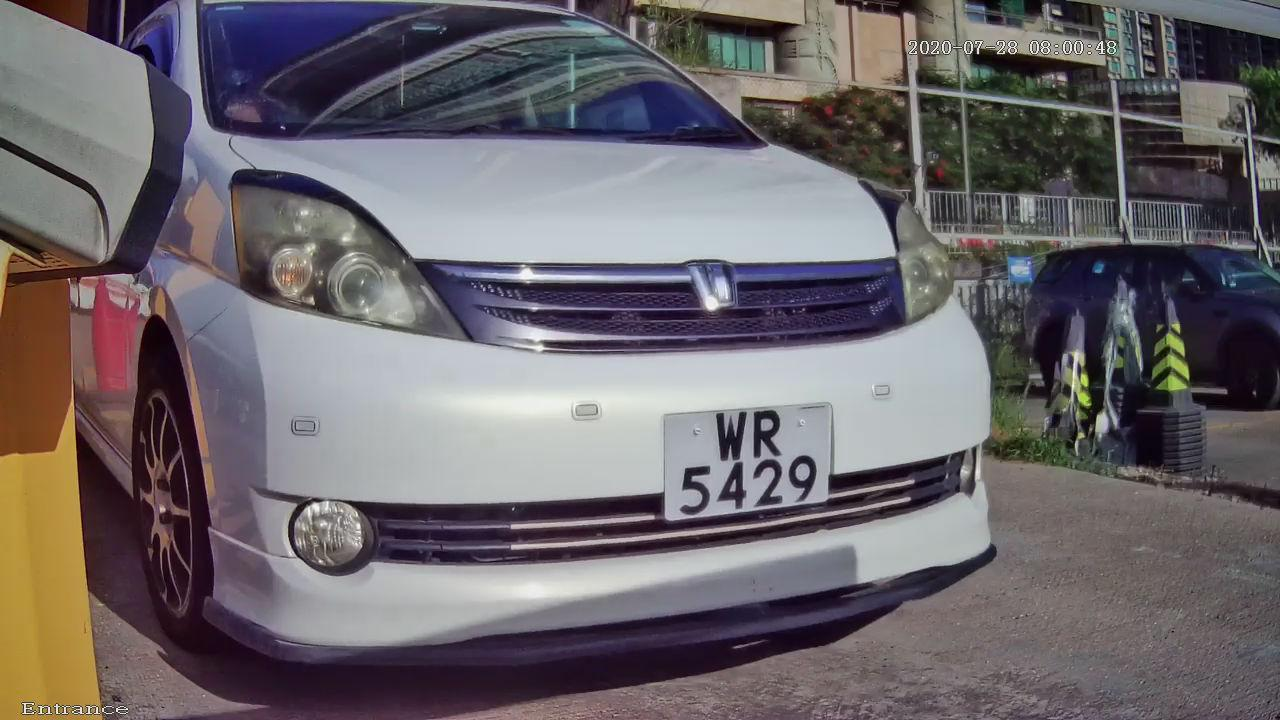privatecar: (58, 1, 1092, 708)
